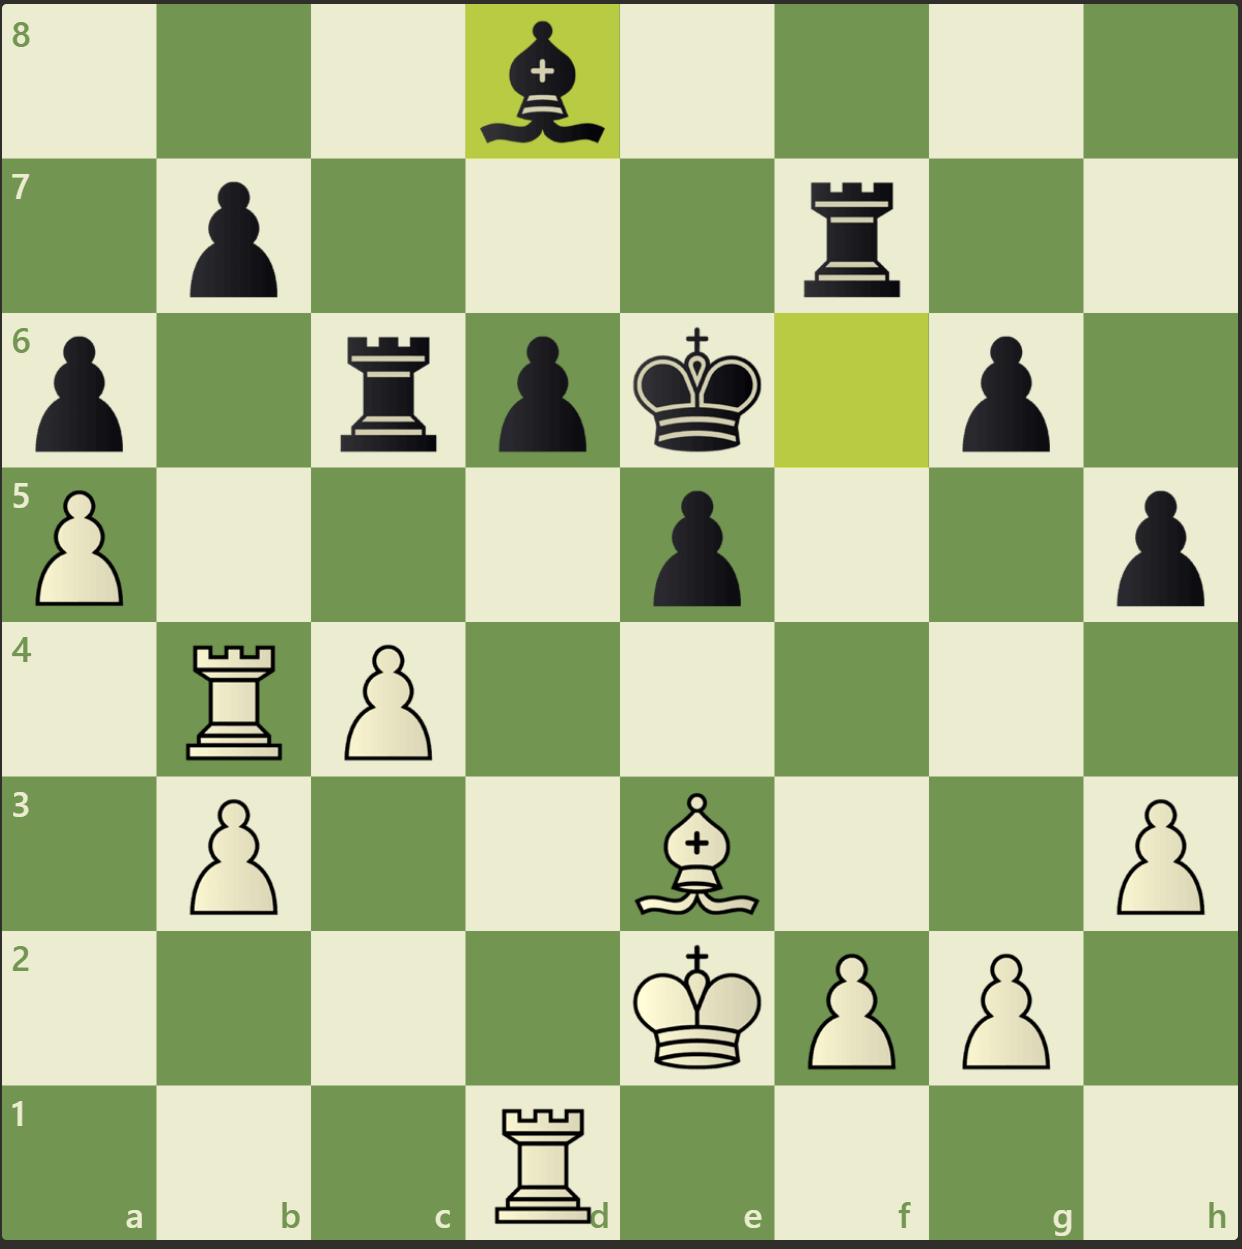beyaz_fil: (631, 781, 771, 920)
beyaz_kale: (472, 1092, 615, 1233), (166, 632, 297, 766)
beyaz_piyon: (1095, 785, 1231, 923), (322, 628, 454, 766), (941, 941, 1075, 1074), (171, 785, 299, 923), (789, 943, 918, 1076), (17, 478, 144, 610)
beyaz_sah: (626, 938, 771, 1080)
siyah_fil: (474, 11, 614, 150)
siyah_kale: (318, 317, 459, 458), (785, 163, 924, 303)
siyah_piyon: (1093, 472, 1231, 614), (162, 165, 297, 308), (477, 320, 610, 462), (7, 320, 141, 458), (630, 475, 764, 612), (939, 320, 1070, 460)
siyah_sah: (626, 319, 768, 458)
